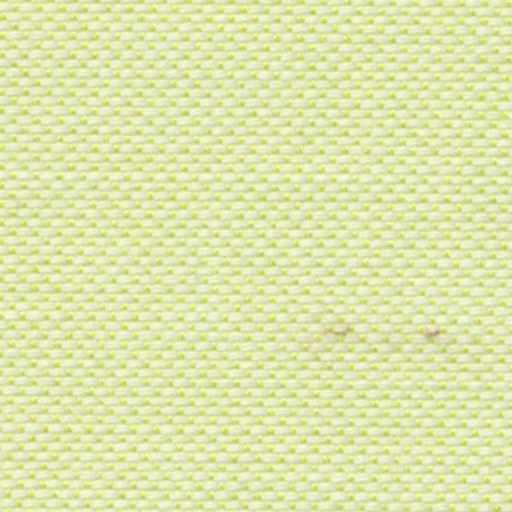WuZi: (304, 312, 492, 364)
